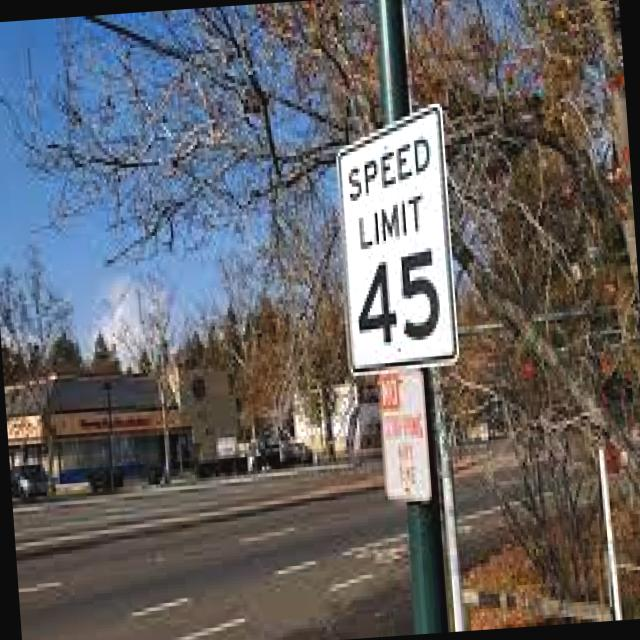Speed Limit Signs: (328, 100, 471, 382)
